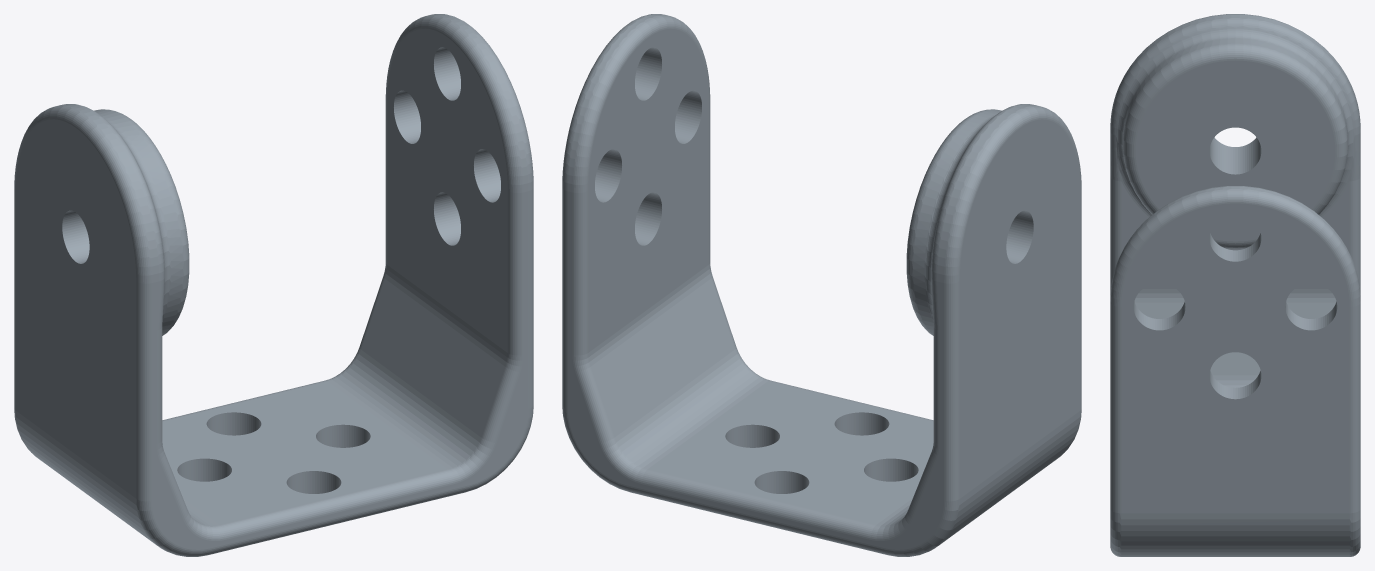
The model's file is long_U.dae.
3 renders of one model, left to right at view 1: azimuth 30°, elevation 25°; view 2: azimuth 150°, elevation 25°; view 3: azimuth 270°, elevation 25°, orthographic. The views are drawn at different scales.
Visible parts, largest first — view 1: 5eb856b29167d915bdb4b0af; view 2: 5eb856b29167d915bdb4b0af; view 3: 5eb856b29167d915bdb4b0af.
Boxes of the visible parts, x1,y1,x2,y2 form: 5eb856b29167d915bdb4b0af: [14, 14, 533, 556]; 5eb856b29167d915bdb4b0af: [562, 14, 1081, 556]; 5eb856b29167d915bdb4b0af: [1110, 14, 1360, 556].
Bounding box in the file's own units: 0.0343 × 0.0198 × 0.0339.
